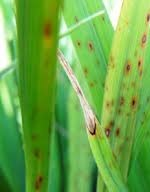Bercak Coklat: (123, 58, 132, 74), (86, 39, 96, 53)
